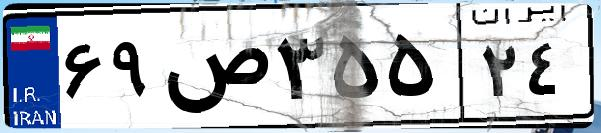2: (475, 38, 525, 113)
3: (270, 28, 330, 110)
4: (525, 38, 570, 115)
5: (385, 28, 445, 110), (330, 28, 385, 110)
6: (57, 26, 110, 100)
9: (110, 28, 158, 98)
ص: (158, 20, 270, 120)
